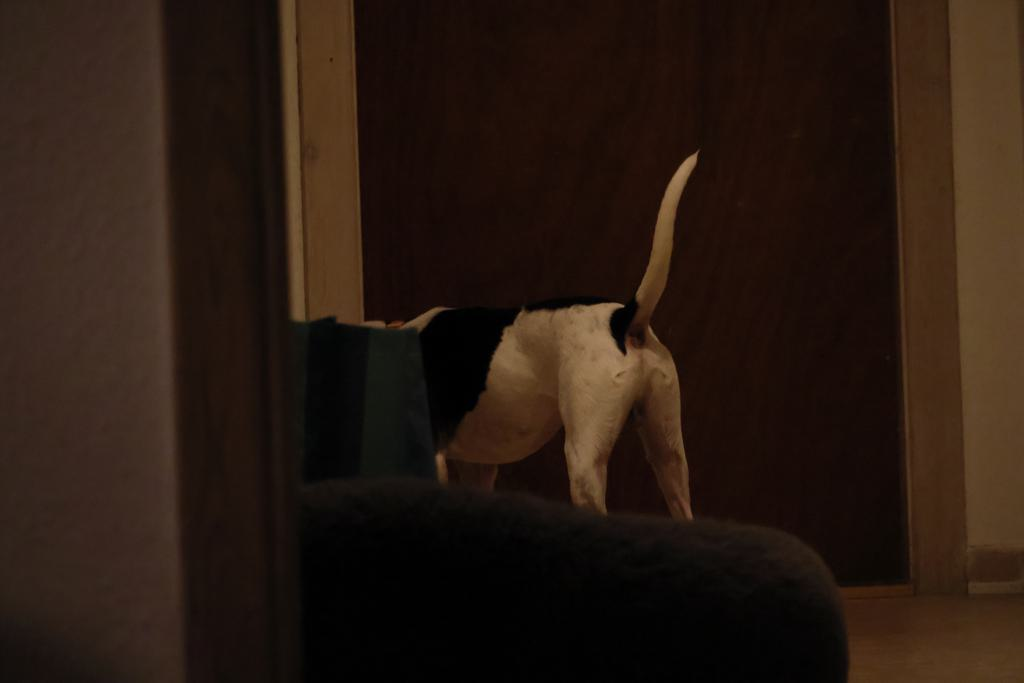Dog: (286, 147, 705, 525)
